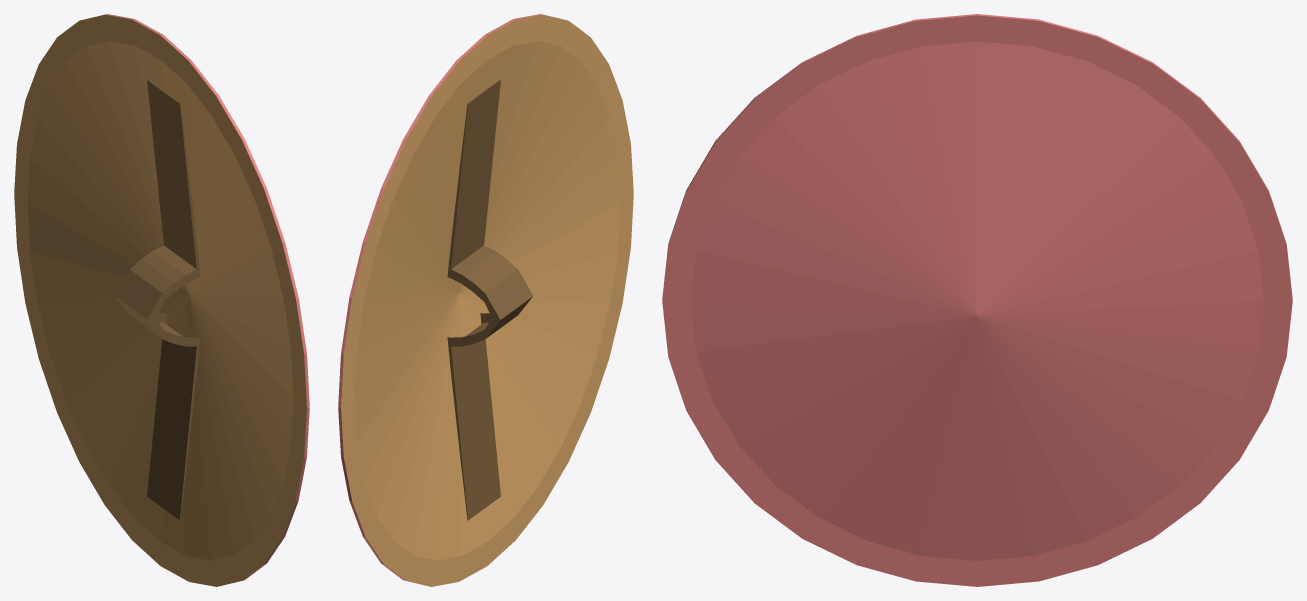
File: Shield01.fbx
3 views of the same model, side by side, from view 1: azimuth 30°, elevation 25°; view 2: azimuth 150°, elevation 25°; view 3: azimuth 270°, elevation 25° (orthographic). The views are drawn at different scales.
Parts seen in each view (by area): view 1: Shield; view 2: Shield; view 3: Shield.
Boxes of the visible parts, box(x1,y1,x2,y2) form: Shield: box(14, 14, 309, 586); Shield: box(338, 14, 633, 586); Shield: box(662, 14, 1292, 586).
Bounding box in the file's own units: 21.39 × 178 × 178.
